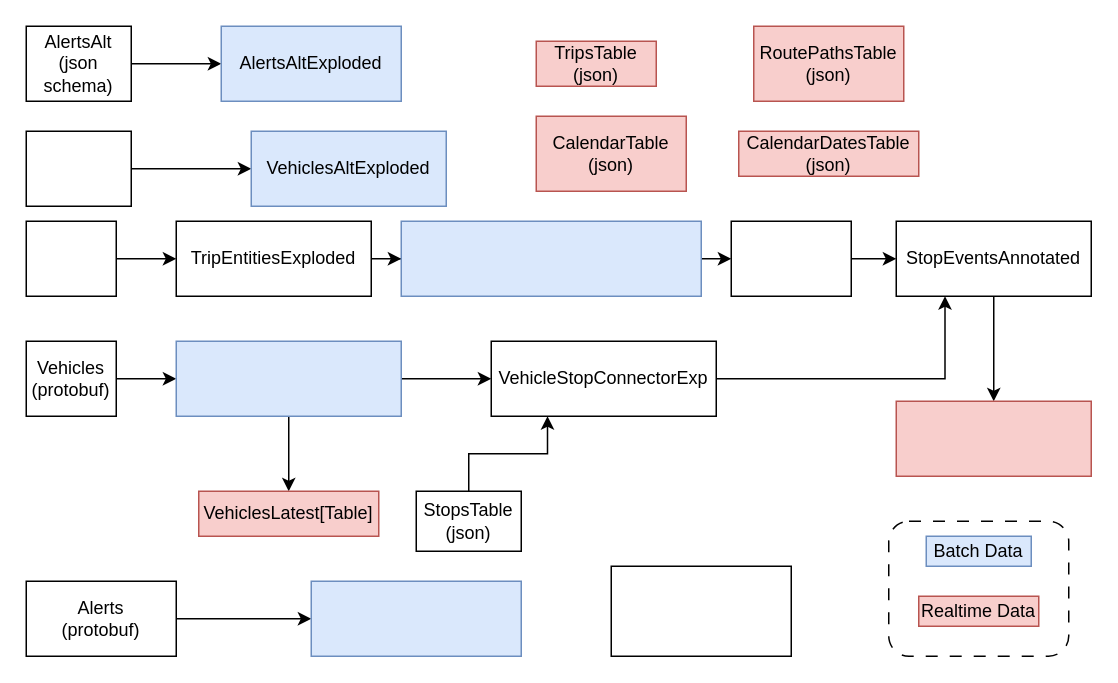
Some shapes in this 1118 by 683 pixel diagram are drawn without their labels. The box of each missing label's shape, as (x1, y1, x2, y2) in pixels:
AlertEntitiesExploded: (310, 580, 521, 656)
routeConfig (json schema): (610, 565, 791, 656)
StopsLatest[Table]: (895, 400, 1091, 476)
TripEntitiesExplodedStopsExploded: (400, 220, 701, 296)
Trips (protobuf): (25, 220, 116, 296)
TripsKeyed: (730, 220, 851, 296)
VehicleEntitiesExploded: (175, 340, 401, 416)
VehiclesAlt (json schema): (25, 130, 131, 206)
